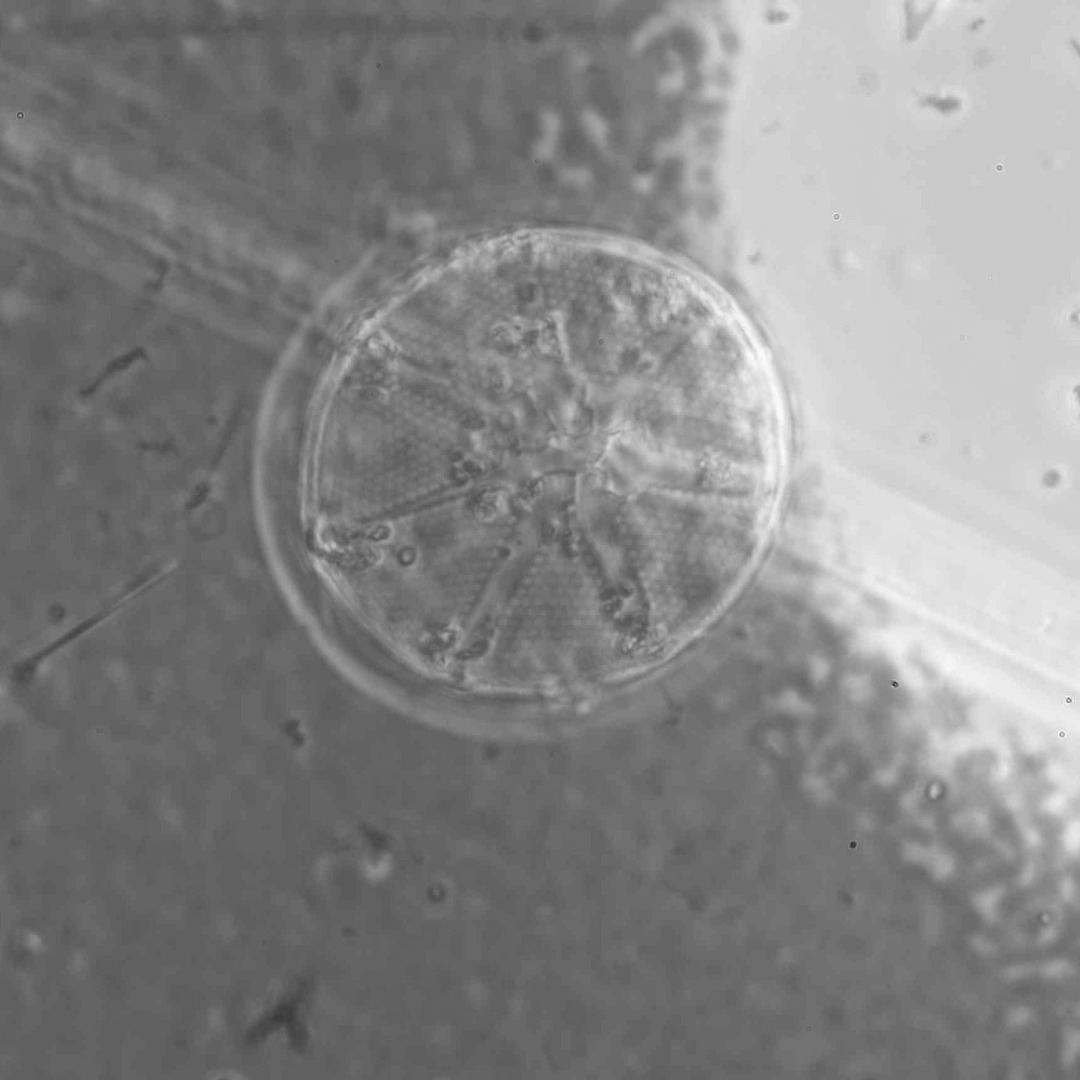asteromphalus_hyalinus: (305, 231, 782, 689)
